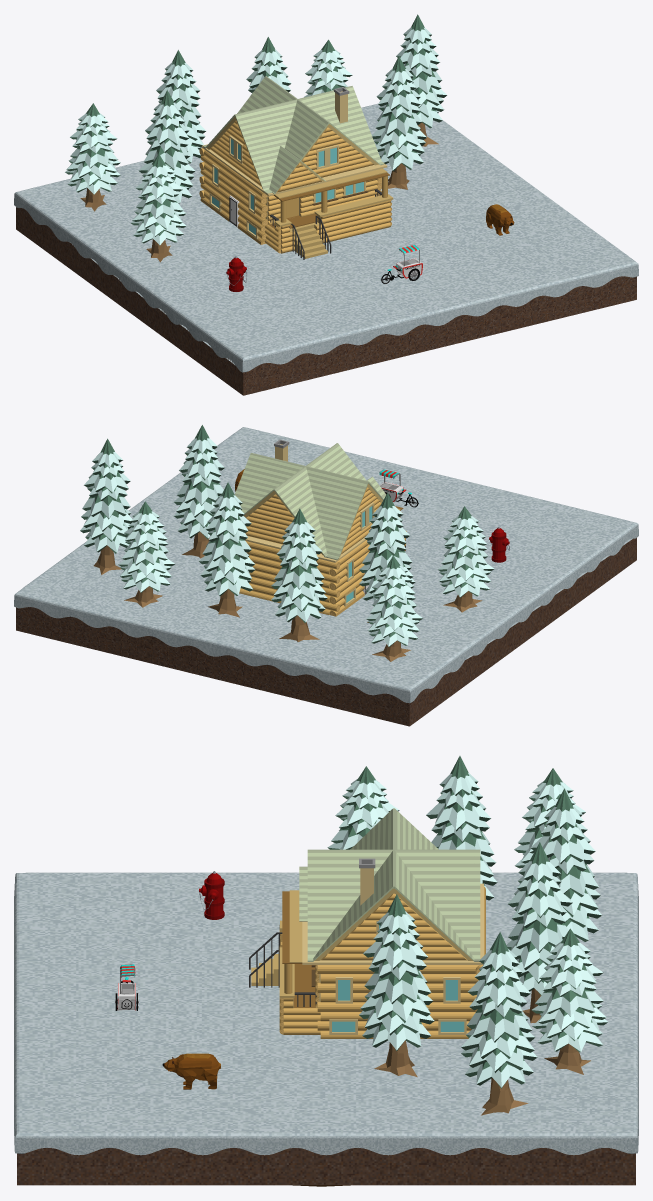
3 renders of one model, top to bottom at view 1: azimuth 30°, elevation 25°; view 2: azimuth 150°, elevation 25°; view 3: azimuth 270°, elevation 25°, orthographic. The views are drawn at different scales.
Parts seen in each view (by area): view 1: Cube.003, Cube.1516, VEHICLES_SNOWBAL_BIKE, ANIMAL_OSO, OBJRANDOM_FIRE_HYDRANT; view 2: Cube.003, Cube.1516, VEHICLES_SNOWBAL_BIKE, OBJRANDOM_FIRE_HYDRANT; view 3: Cube.003, Cube.1516, ANIMAL_OSO, OBJRANDOM_FIRE_HYDRANT, VEHICLES_SNOWBAL_BIKE.
Boxes of the visible parts, <box> form: Cube.003: <box>14,14,638,395</box>; Cube.1516: <box>199,76,393,259</box>; VEHICLES_SNOWBAL_BIKE: <box>381,244,422,283</box>; ANIMAL_OSO: <box>486,204,514,235</box>; OBJRANDOM_FIRE_HYDRANT: <box>226,256,247,291</box>; Cube.003: <box>14,425,638,726</box>; Cube.1516: <box>234,439,406,616</box>; VEHICLES_SNOWBAL_BIKE: <box>379,469,418,507</box>; OBJRANDOM_FIRE_HYDRANT: <box>489,527,509,562</box>; Cube.003: <box>14,756,638,1185</box>; Cube.1516: <box>249,808,485,1038</box>; ANIMAL_OSO: <box>162,1053,220,1089</box>; OBJRANDOM_FIRE_HYDRANT: <box>199,871,224,919</box>; VEHICLES_SNOWBAL_BIKE: <box>115,964,138,1010</box>.
Bounding box in the file's own units: 4040 × 1758 × 4040.
Materials: 36 (4 with a texture image).
